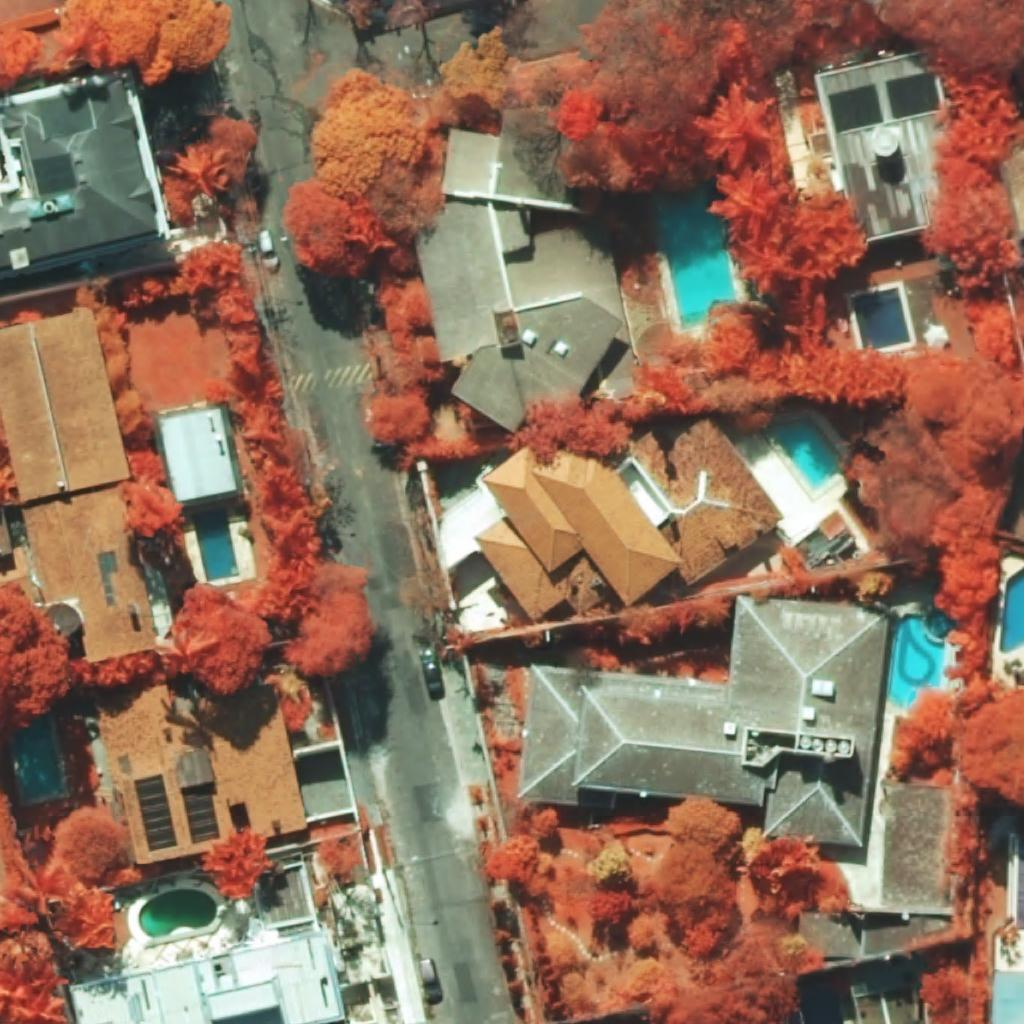pool: (659, 192, 736, 329), (888, 612, 957, 708), (775, 417, 842, 489), (15, 714, 63, 800), (139, 889, 217, 938), (851, 288, 911, 349), (192, 507, 240, 581), (1000, 568, 1023, 654), (803, 1001, 844, 1024)
